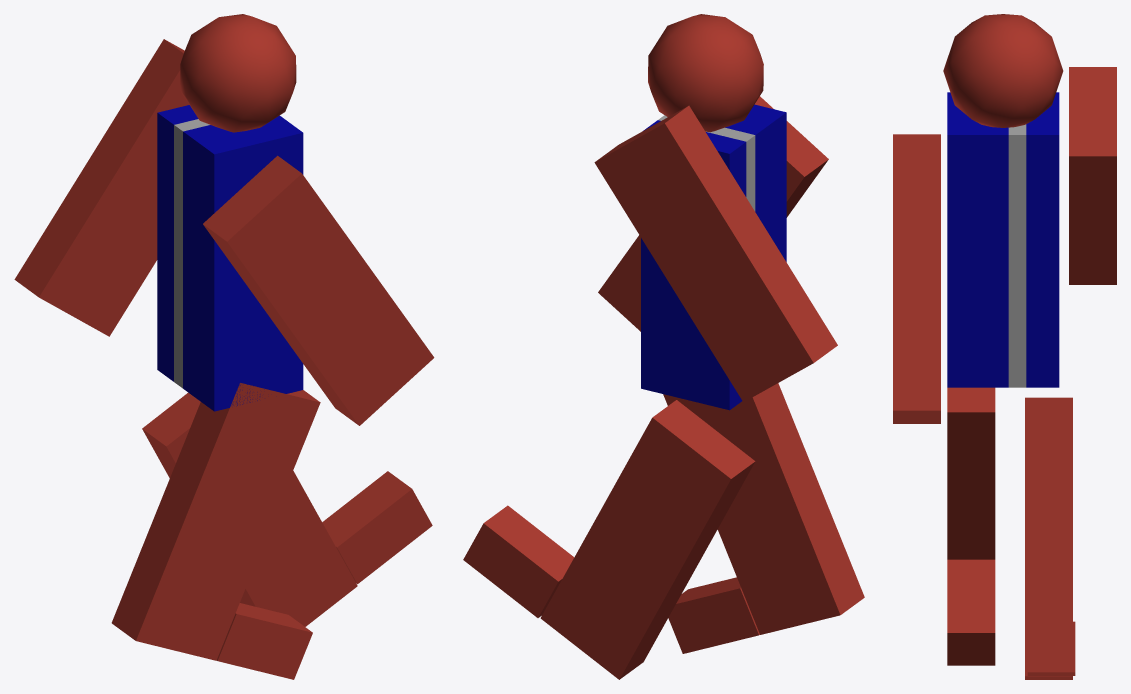
Rendered from player_000001.obj.
The picture shows the model from 3 angles, left to right: view 1: azimuth 30°, elevation 25°; view 2: azimuth 150°, elevation 25°; view 3: azimuth 270°, elevation 25°; orthographic projection.
Visible parts, largest first — view 1: Cube.001, Cube, Cube.005, Cube.006, Cube.002, Icosphere, Cube.004, Cube.003; view 2: Cube.006, Cube.002, Cube.001, Cube, Icosphere, Cube.004, Cube.003, Cube.005; view 3: Cube, Cube.005, Cube.002, Icosphere, Cube.006, Cube.001, Cube.003, Cube.004.
Part boxes in pixels (<box>): Cube.001: <box>111,383,320,660</box>; Cube: <box>157,105,303,411</box>; Cube.005: <box>203,155,434,425</box>; Cube.006: <box>14,39,189,336</box>; Cube.002: <box>142,392,357,626</box>; Icosphere: <box>180,14,296,132</box>; Cube.004: <box>322,471,432,584</box>; Cube.003: <box>216,603,312,679</box>; Cube.006: <box>594,105,837,402</box>; Cube.002: <box>540,400,755,679</box>; Cube.001: <box>663,383,864,634</box>; Cube: <box>641,104,786,410</box>; Icosphere: <box>648,14,763,132</box>; Cube.004: <box>463,505,574,617</box>; Cube.003: <box>668,577,759,653</box>; Cube.005: <box>598,96,828,331</box>; Cube: <box>947,92,1059,387</box>; Cube.005: <box>893,134,940,423</box>; Cube.002: <box>1025,397,1072,679</box>; Icosphere: <box>943,14,1063,127</box>; Cube.006: <box>1069,67,1116,284</box>; Cube.001: <box>947,387,995,559</box>; Cube.003: <box>947,559,995,665</box>; Cube.004: <box>1027,621,1075,675</box>.
Size of the model in its own units: 1.73 by 2.87 by 0.9137.
